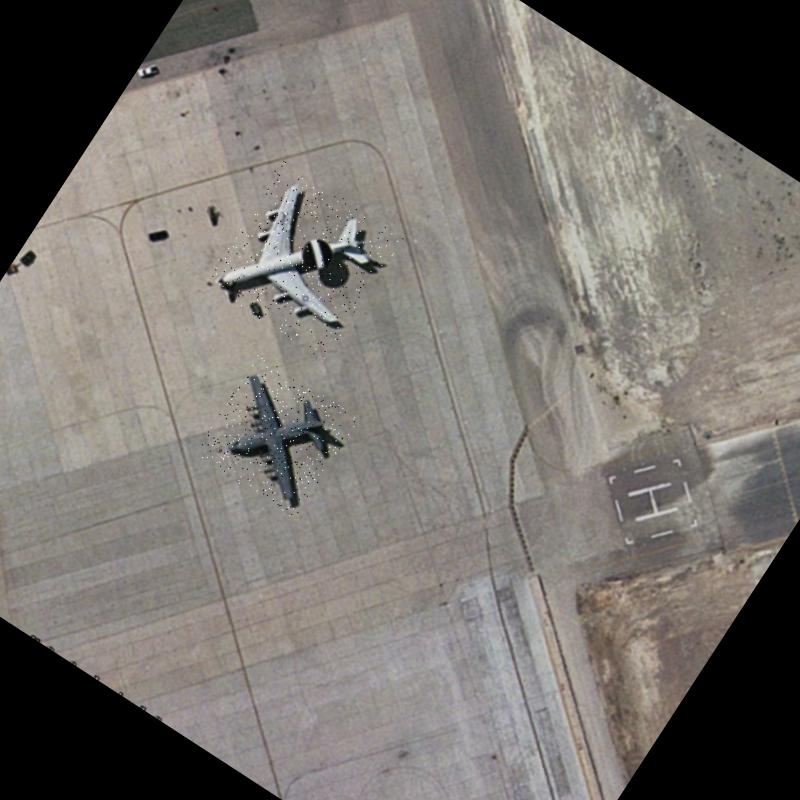A2: (193, 354, 359, 520)
A7: (202, 159, 404, 361)
